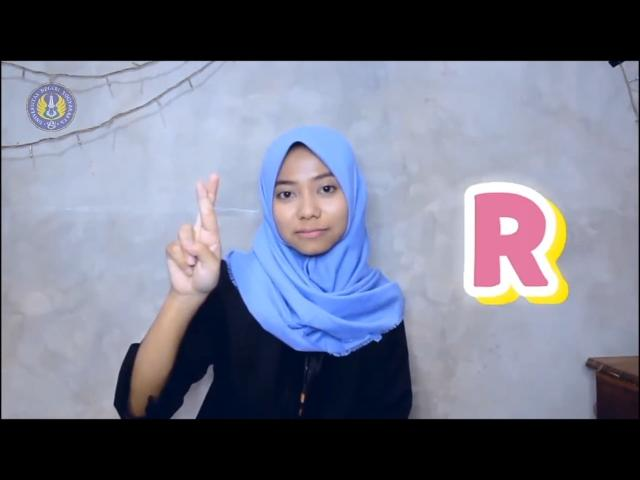R: (164, 170, 223, 296)
